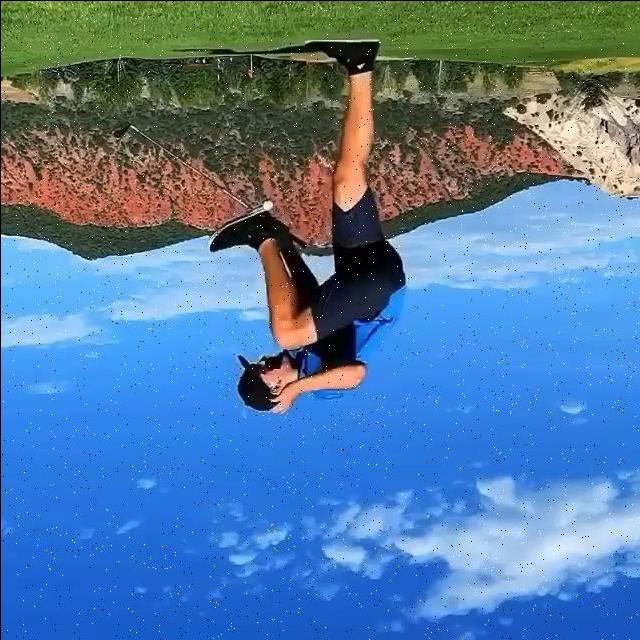golf ball: (262, 200, 273, 210)
golf club-handle: (113, 122, 307, 249)
golf club-head: (113, 121, 130, 137)
